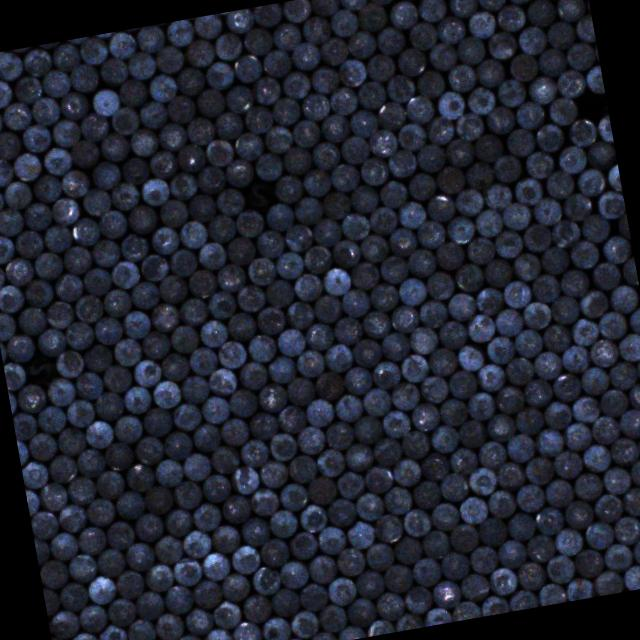tool: (322, 418, 356, 452), (185, 266, 218, 300), (228, 542, 262, 575), (248, 72, 281, 106), (124, 202, 157, 235), (503, 431, 536, 464), (112, 488, 146, 520), (140, 482, 174, 514), (384, 70, 416, 104), (442, 136, 476, 168), (528, 270, 560, 304), (530, 348, 562, 382), (352, 488, 384, 522), (514, 558, 546, 592), (600, 540, 634, 572), (102, 439, 134, 472), (56, 580, 89, 612), (85, 572, 117, 605), (170, 555, 202, 588), (19, 122, 52, 154), (163, 92, 196, 124), (41, 144, 73, 177), (30, 170, 62, 203), (98, 130, 130, 163), (68, 215, 100, 248), (148, 300, 180, 333), (378, 329, 410, 362), (225, 386, 258, 418), (398, 351, 430, 384), (208, 442, 241, 474), (170, 478, 202, 511), (314, 523, 346, 556), (249, 563, 281, 596), (434, 13, 466, 46), (515, 23, 547, 56), (328, 160, 360, 193), (357, 154, 389, 187), (290, 194, 323, 226), (584, 139, 616, 172), (309, 215, 341, 248), (311, 291, 343, 324), (404, 246, 436, 279), (388, 378, 420, 411), (474, 360, 506, 393), (475, 438, 507, 471), (403, 92, 434, 126), (464, 388, 495, 422), (82, 418, 114, 450), (74, 446, 106, 478), (36, 480, 68, 512), (64, 474, 96, 506), (152, 456, 184, 488), (162, 506, 194, 538), (66, 552, 98, 584), (180, 527, 212, 559), (190, 578, 222, 610), (210, 598, 242, 630), (145, 71, 177, 103), (77, 110, 109, 142), (194, 87, 226, 119), (58, 166, 90, 198), (68, 136, 100, 168), (127, 125, 159, 157), (156, 120, 188, 152), (108, 180, 140, 212), (194, 164, 226, 196), (60, 243, 92, 275), (21, 276, 53, 308), (52, 270, 84, 302), (44, 298, 76, 330), (166, 246, 198, 278), (272, 248, 304, 280), (204, 288, 236, 320), (52, 347, 84, 379), (274, 326, 306, 358), (92, 389, 124, 421), (205, 364, 237, 396), (236, 359, 268, 391), (314, 369, 346, 401), (406, 324, 438, 356), (426, 345, 458, 377), (133, 434, 165, 466), (294, 424, 326, 456), (332, 391, 364, 423), (200, 472, 232, 504), (228, 463, 260, 495), (257, 458, 289, 490), (286, 452, 318, 484), (314, 446, 346, 478), (342, 440, 374, 472), (220, 492, 252, 524), (276, 480, 308, 512), (304, 474, 336, 506), (238, 514, 270, 546), (266, 506, 298, 538), (218, 570, 250, 602), (240, 592, 272, 624), (325, 574, 357, 606), (288, 607, 320, 639), (345, 596, 377, 628), (260, 47, 292, 79), (288, 39, 320, 71), (344, 28, 376, 60), (374, 24, 406, 56), (484, 28, 516, 60), (232, 130, 264, 162), (262, 124, 294, 156), (464, 84, 496, 116), (526, 73, 558, 105), (394, 120, 426, 152), (414, 141, 446, 173), (484, 104, 516, 136), (513, 98, 545, 130), (472, 131, 504, 163), (532, 121, 564, 153), (490, 152, 522, 184), (523, 148, 555, 180), (394, 198, 426, 230), (512, 175, 544, 207), (356, 231, 388, 263), (498, 199, 530, 231), (548, 218, 580, 250), (520, 221, 552, 253), (444, 290, 476, 322), (474, 284, 506, 316), (589, 260, 621, 292), (558, 266, 590, 298), (492, 306, 524, 338), (595, 309, 627, 341), (586, 336, 618, 368), (558, 342, 590, 374), (360, 385, 392, 417), (446, 368, 478, 400), (483, 410, 515, 442), (410, 478, 442, 510), (596, 386, 628, 418), (532, 426, 564, 458), (560, 420, 592, 452), (524, 532, 556, 564), (582, 518, 614, 550), (572, 546, 604, 578), (139, 175, 170, 208), (213, 261, 246, 292), (437, 318, 468, 351), (199, 549, 230, 582), (407, 19, 438, 52), (252, 150, 283, 183), (386, 225, 417, 258), (444, 213, 475, 246), (409, 400, 440, 433), (428, 422, 459, 455), (589, 412, 620, 445), (15, 304, 46, 336), (26, 430, 57, 462), (46, 452, 77, 484), (94, 468, 125, 500), (123, 461, 155, 492), (132, 511, 164, 542), (190, 501, 222, 532), (123, 540, 154, 572), (143, 562, 174, 594), (48, 608, 80, 639), (10, 150, 41, 182), (1, 178, 32, 210), (88, 159, 120, 190), (147, 148, 178, 180), (30, 248, 61, 280), (205, 212, 236, 244), (80, 266, 112, 297), (72, 291, 103, 323), (63, 319, 94, 351), (245, 254, 276, 286), (263, 276, 295, 307), (120, 383, 152, 414), (322, 341, 353, 373), (350, 336, 381, 368), (198, 394, 230, 425), (284, 374, 315, 406), (190, 420, 221, 452), (248, 485, 279, 517), (209, 522, 240, 554), (296, 502, 327, 534), (324, 497, 356, 528), (286, 529, 318, 560), (276, 558, 308, 589), (334, 546, 366, 577), (382, 562, 413, 594), (411, 556, 442, 588), (316, 601, 347, 633), (402, 583, 433, 615), (300, 14, 331, 46), (317, 34, 348, 66), (465, 8, 496, 40), (336, 56, 367, 88), (182, 115, 214, 146), (298, 90, 329, 122), (355, 78, 386, 110), (395, 45, 426, 77), (445, 61, 476, 93), (473, 56, 504, 88), (347, 107, 378, 139), (374, 99, 406, 130), (495, 76, 526, 108), (554, 66, 585, 98), (281, 144, 312, 176), (339, 133, 370, 165), (366, 127, 398, 158), (384, 147, 416, 178), (452, 110, 483, 142), (546, 95, 578, 126), (565, 116, 596, 148), (347, 182, 378, 214), (338, 210, 369, 242), (366, 204, 397, 236), (453, 186, 484, 218), (481, 180, 512, 212), (329, 236, 360, 268), (320, 264, 351, 296), (377, 252, 408, 284), (414, 218, 445, 250), (433, 239, 464, 271), (579, 212, 610, 244), (394, 275, 426, 306), (452, 260, 483, 292), (417, 297, 448, 329), (501, 278, 532, 310), (538, 244, 570, 275), (568, 237, 599, 269), (520, 298, 552, 329), (548, 292, 579, 324), (484, 332, 515, 364), (512, 326, 543, 358), (606, 359, 638, 390), (512, 405, 544, 436), (418, 450, 449, 482), (466, 464, 497, 496), (551, 448, 582, 480), (401, 506, 432, 538), (457, 494, 488, 526), (513, 481, 544, 513), (542, 477, 574, 508), (504, 511, 536, 542), (533, 504, 564, 536), (458, 570, 489, 602), (487, 564, 518, 596), (175, 296, 208, 326), (223, 236, 256, 266), (233, 282, 266, 312), (185, 344, 218, 374), (245, 332, 278, 362), (266, 429, 296, 462), (258, 535, 288, 568), (372, 512, 402, 545), (482, 255, 512, 288), (105, 596, 136, 627), (183, 37, 214, 68), (108, 104, 139, 135), (166, 169, 197, 200), (12, 228, 43, 259), (156, 272, 187, 303), (254, 304, 285, 335), (216, 338, 247, 369), (265, 353, 296, 384), (111, 412, 142, 443), (170, 401, 201, 432), (334, 469, 365, 500), (345, 519, 376, 550), (297, 580, 328, 611), (354, 568, 385, 599), (494, 1, 525, 32), (318, 111, 349, 142), (300, 166, 331, 197), (595, 188, 626, 219), (550, 371, 581, 402), (22, 46, 52, 78), (77, 34, 107, 66), (4, 255, 34, 287), (16, 382, 46, 414), (56, 425, 86, 457), (48, 529, 78, 561), (76, 524, 106, 556), (104, 518, 134, 550), (152, 533, 182, 565), (114, 568, 144, 600), (134, 589, 164, 621), (163, 582, 193, 614), (30, 94, 60, 126), (119, 154, 149, 186), (42, 222, 72, 254), (96, 207, 126, 239), (156, 198, 188, 228), (174, 140, 204, 172), (204, 136, 234, 168), (100, 286, 132, 316), (92, 314, 122, 346), (121, 308, 151, 340), (302, 242, 332, 274), (292, 270, 322, 302), (80, 342, 112, 372), (112, 334, 142, 366), (140, 328, 170, 360), (226, 310, 256, 342), (72, 370, 104, 400), (151, 377, 181, 409), (332, 314, 362, 346), (360, 308, 390, 340), (142, 405, 172, 437), (256, 381, 286, 413), (342, 364, 372, 396), (370, 358, 400, 390), (162, 428, 192, 460), (304, 396, 334, 428), (238, 436, 268, 468), (270, 586, 300, 618), (270, 20, 300, 52), (356, 0, 386, 32), (280, 68, 310, 100), (270, 94, 300, 126), (327, 84, 357, 116), (427, 40, 457, 72), (454, 34, 484, 66), (544, 18, 574, 50), (414, 68, 444, 100), (535, 46, 567, 76), (564, 40, 594, 72), (290, 118, 320, 150), (435, 88, 465, 120), (223, 156, 253, 188), (310, 138, 340, 170), (272, 172, 302, 204), (504, 126, 534, 158), (377, 176, 407, 208), (544, 168, 574, 200), (340, 286, 370, 318), (472, 206, 502, 238), (464, 234, 494, 266), (531, 194, 561, 226), (368, 280, 398, 312), (424, 269, 454, 301), (510, 250, 540, 282), (600, 233, 630, 265), (465, 312, 495, 344), (608, 282, 638, 314), (540, 322, 570, 354), (569, 316, 599, 348), (504, 355, 534, 387), (418, 372, 448, 404), (352, 412, 382, 444), (380, 407, 410, 439), (438, 396, 468, 428), (494, 382, 524, 414), (522, 376, 552, 408), (578, 364, 608, 396), (371, 434, 401, 466), (400, 427, 430, 459), (456, 416, 486, 448), (362, 463, 394, 493), (390, 456, 420, 488), (438, 470, 468, 502), (524, 454, 554, 486), (428, 500, 458, 532), (485, 486, 515, 518), (572, 471, 604, 501), (391, 534, 421, 566), (419, 528, 449, 560), (448, 521, 478, 553), (476, 515, 506, 547), (468, 542, 498, 574), (496, 537, 526, 569), (544, 552, 574, 584), (50, 41, 80, 72), (56, 502, 87, 532), (180, 450, 210, 481), (126, 50, 156, 81), (1, 100, 32, 130), (203, 60, 234, 90), (214, 185, 244, 216), (90, 237, 120, 268), (149, 224, 179, 255), (177, 218, 207, 249), (233, 208, 264, 238), (263, 201, 294, 231), (3, 332, 34, 362), (283, 222, 314, 252), (168, 322, 198, 353), (198, 317, 228, 348), (131, 357, 161, 388), (158, 350, 188, 381), (302, 320, 332, 351), (179, 373, 209, 404), (294, 347, 324, 378), (388, 304, 419, 334), (218, 415, 248, 446), (276, 403, 306, 434), (307, 554, 338, 584), (328, 7, 358, 38), (212, 109, 242, 140), (242, 104, 273, 134), (507, 51, 537, 82), (424, 115, 454, 146), (434, 163, 464, 194), (464, 160, 494, 191), (556, 144, 587, 174), (575, 166, 605, 197), (284, 298, 314, 329), (348, 260, 379, 290), (492, 228, 522, 259), (562, 190, 592, 221), (577, 288, 608, 318), (454, 341, 484, 372), (447, 444, 477, 475), (494, 459, 524, 490), (580, 442, 611, 472), (364, 540, 394, 571), (562, 498, 593, 528), (552, 526, 583, 556), (38, 558, 67, 590), (240, 27, 272, 56), (383, 484, 412, 516), (608, 435, 640, 464), (592, 567, 624, 596), (46, 377, 76, 407), (64, 398, 94, 428), (85, 496, 115, 526), (77, 602, 107, 632), (12, 74, 42, 104), (40, 68, 70, 98), (212, 32, 242, 62), (58, 90, 88, 120), (138, 100, 168, 130), (22, 200, 52, 230), (50, 194, 80, 224), (80, 186, 110, 216), (186, 192, 216, 222), (118, 232, 148, 262), (36, 326, 66, 356), (110, 258, 140, 288), (139, 252, 169, 282), (255, 228, 285, 258), (102, 363, 132, 393), (387, 0, 417, 30), (364, 52, 394, 82), (406, 170, 436, 200), (424, 192, 454, 222), (542, 400, 572, 430), (570, 394, 600, 424), (592, 492, 622, 522), (439, 550, 469, 580), (30, 509, 59, 540), (105, 30, 136, 59), (611, 513, 640, 544), (224, 83, 252, 115), (130, 278, 158, 310), (376, 590, 404, 622), (36, 404, 66, 433), (96, 548, 125, 578), (154, 611, 184, 640), (68, 62, 98, 91), (154, 44, 184, 73), (90, 87, 120, 116), (116, 78, 146, 107), (175, 66, 204, 96), (232, 54, 261, 84), (50, 118, 79, 148), (196, 240, 225, 270), (248, 411, 278, 440), (432, 579, 461, 609), (310, 65, 340, 94), (320, 190, 350, 219), (601, 464, 630, 494), (615, 405, 640, 439), (184, 606, 213, 635), (164, 18, 193, 47), (134, 24, 162, 54), (259, 614, 291, 640), (99, 56, 128, 84), (21, 459, 48, 489), (193, 13, 222, 40), (225, 7, 254, 34), (252, 2, 282, 28), (524, 0, 554, 26), (615, 332, 640, 363), (0, 282, 24, 313), (125, 616, 156, 640), (450, 598, 481, 622), (564, 576, 592, 602), (2, 360, 26, 390), (506, 587, 536, 611), (0, 206, 23, 237), (554, 0, 585, 23), (582, 64, 605, 95), (0, 50, 23, 80), (416, 0, 446, 23), (12, 411, 36, 439), (0, 129, 21, 161), (479, 593, 508, 616), (574, 13, 596, 43), (537, 582, 564, 606), (282, 0, 311, 22), (422, 604, 451, 626), (231, 619, 261, 640), (620, 485, 640, 516), (446, 0, 477, 19), (394, 612, 422, 632), (97, 622, 127, 640), (604, 162, 622, 192), (620, 256, 638, 286), (621, 563, 640, 591), (364, 618, 393, 636), (33, 534, 50, 564), (335, 622, 363, 640), (596, 114, 613, 142), (0, 232, 14, 264), (24, 486, 40, 514), (0, 311, 15, 340), (309, 0, 338, 15), (201, 626, 232, 640), (626, 380, 640, 411), (42, 587, 58, 614), (0, 156, 13, 188), (627, 306, 640, 335), (0, 78, 12, 109), (475, 0, 506, 12), (628, 456, 640, 486), (307, 628, 336, 640), (630, 536, 640, 567), (69, 630, 99, 640), (337, 0, 367, 10), (174, 632, 204, 640), (633, 353, 640, 384), (366, 0, 396, 5)
tool_b: (18, 351, 55, 387), (240, 176, 277, 212)
void: (572, 90, 608, 120)
